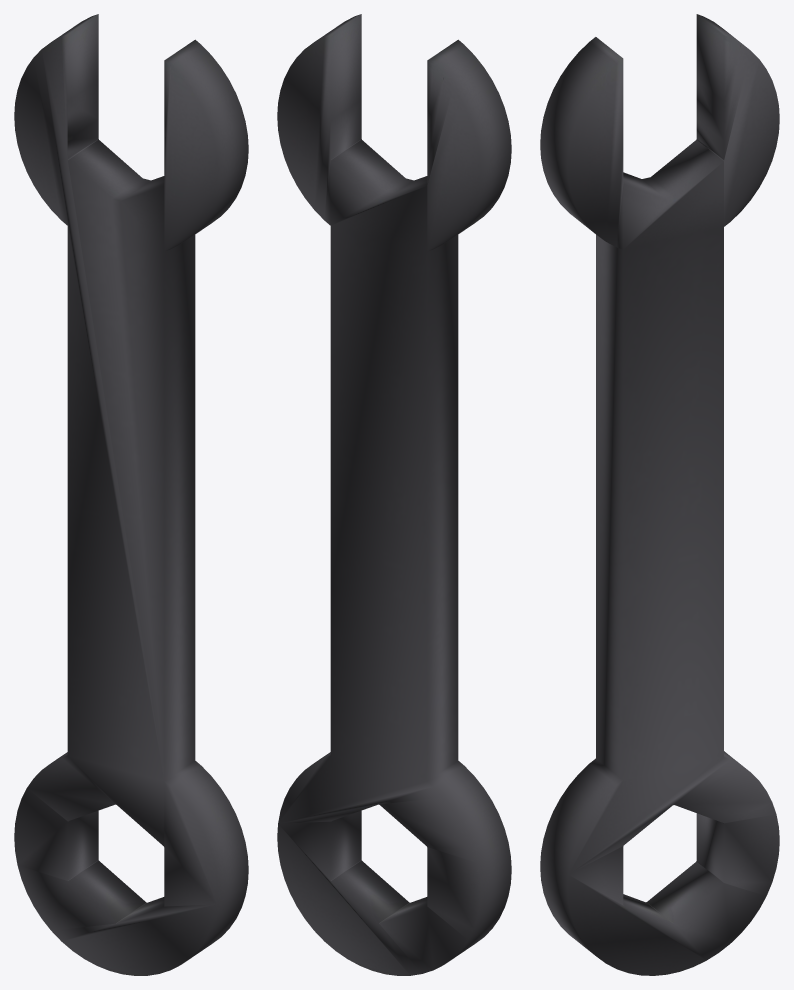
Rendered from wrench.glb.
3 views of the same model, side by side, from view 1: azimuth 30°, elevation 25°; view 2: azimuth 210°, elevation 25°; view 3: azimuth 270°, elevation 25° (orthographic).
Parts seen in each view (by area): view 1: tripo_node_97aa315e-abd5-49d9-b26d-dfb05d55436c; view 2: tripo_node_97aa315e-abd5-49d9-b26d-dfb05d55436c; view 3: tripo_node_97aa315e-abd5-49d9-b26d-dfb05d55436c.
Boxes of the visible parts, <box> form: tripo_node_97aa315e-abd5-49d9-b26d-dfb05d55436c: <box>14,14,248,975</box>; tripo_node_97aa315e-abd5-49d9-b26d-dfb05d55436c: <box>277,14,511,975</box>; tripo_node_97aa315e-abd5-49d9-b26d-dfb05d55436c: <box>540,14,779,975</box>.
Bounding box in the file's own units: 0.1608 × 1 × 0.2345.
Materials: 1 (1 with a texture image).
